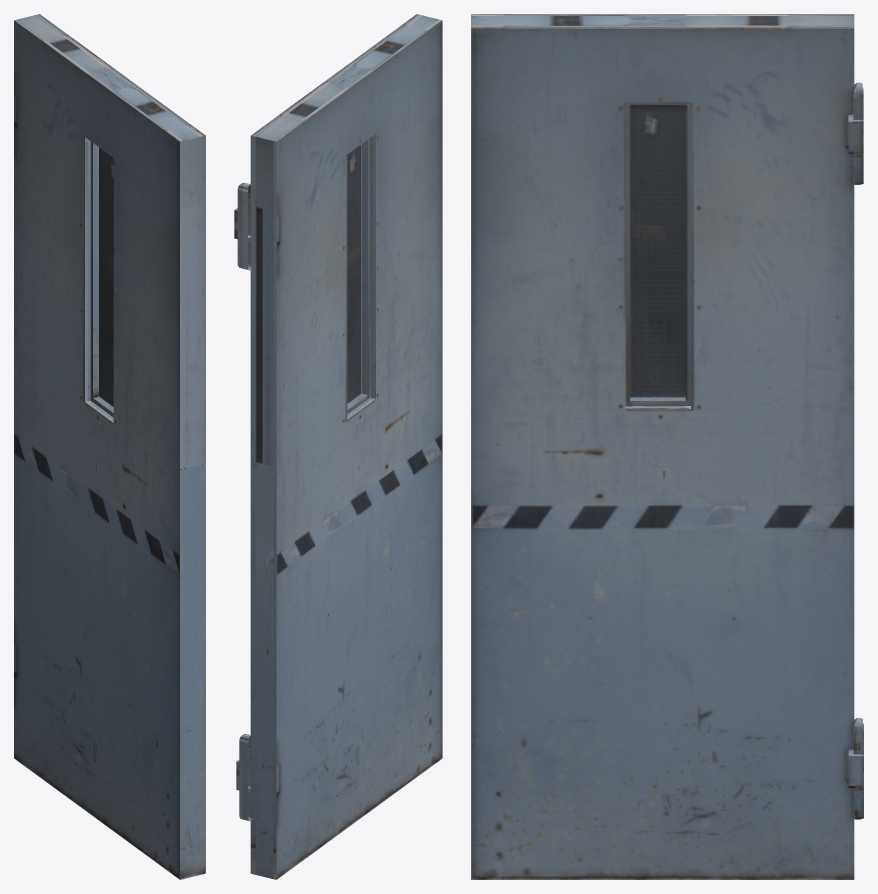
File: SM_Door_Right.fbx
The picture shows the model from 3 angles, left to right: view 1: azimuth 30°, elevation 25°; view 2: azimuth 150°, elevation 25°; view 3: azimuth 270°, elevation 25°; orthographic projection. The views are drawn at different scales.
Parts seen in each view (by area): view 1: SM_Door_Right; view 2: SM_Door_Right; view 3: SM_Door_Right.
Part boxes in pixels (x1,y1,x2,y2): SM_Door_Right: (14,14,205,879); SM_Door_Right: (234,14,442,879); SM_Door_Right: (471,14,863,879).
Size of the model in its own units: 15.76 by 122 by 291.
1 material, 1 textured.
